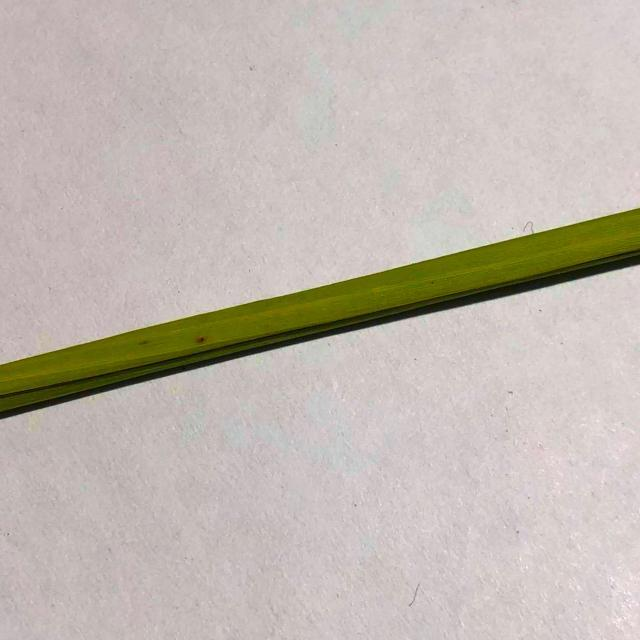brownspots: (193, 330, 214, 350), (138, 328, 156, 350)
